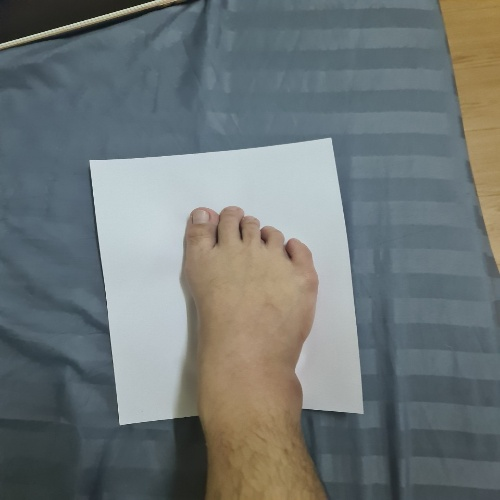Top_Foot: (71, 122, 402, 444)
